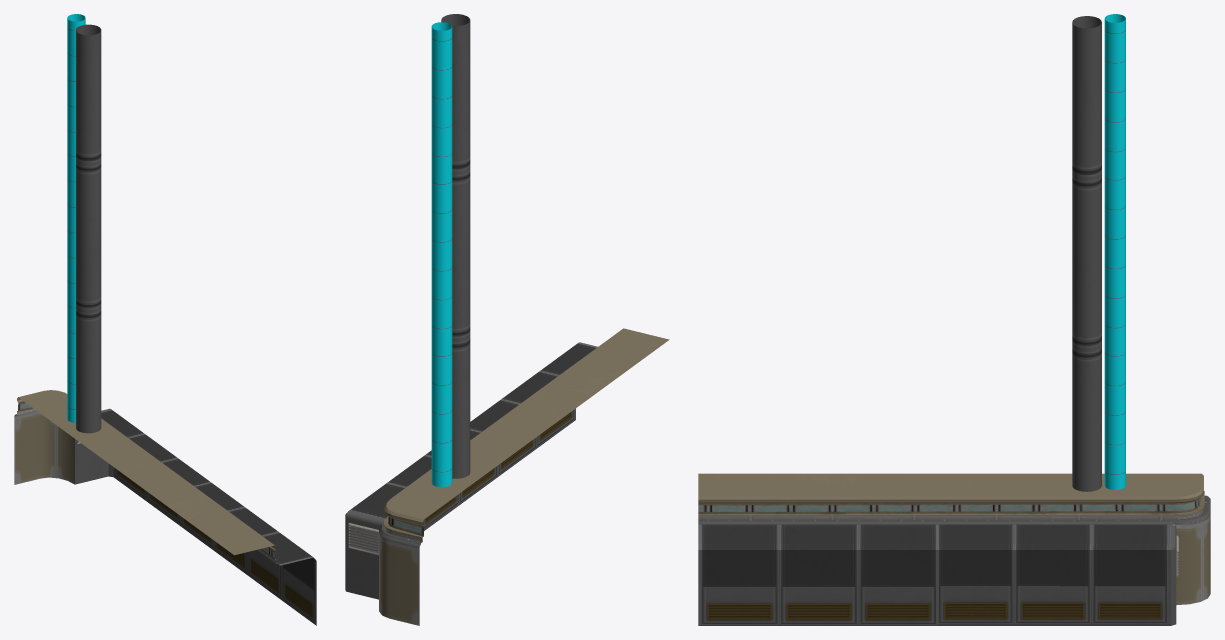
The model's file is pumps 1.obj.
3 views of the same model, side by side, from view 1: azimuth 30°, elevation 25°; view 2: azimuth 150°, elevation 25°; view 3: azimuth 270°, elevation 25° (orthographic). The views are drawn at different scales.
Parts seen in each view (by area): view 1: tubes_ corroridor_4; view 2: tubes_ corroridor_4; view 3: tubes_ corroridor_4.
Boxes of the visible parts, x1,y1,x2,y2 form: tubes_ corroridor_4: (14, 14, 316, 625); tubes_ corroridor_4: (345, 14, 669, 625); tubes_ corroridor_4: (698, 14, 1210, 625).
Size of the model in its own units: 6.65 by 37.93 by 30.75.
Materials: 1 (1 with a texture image).
